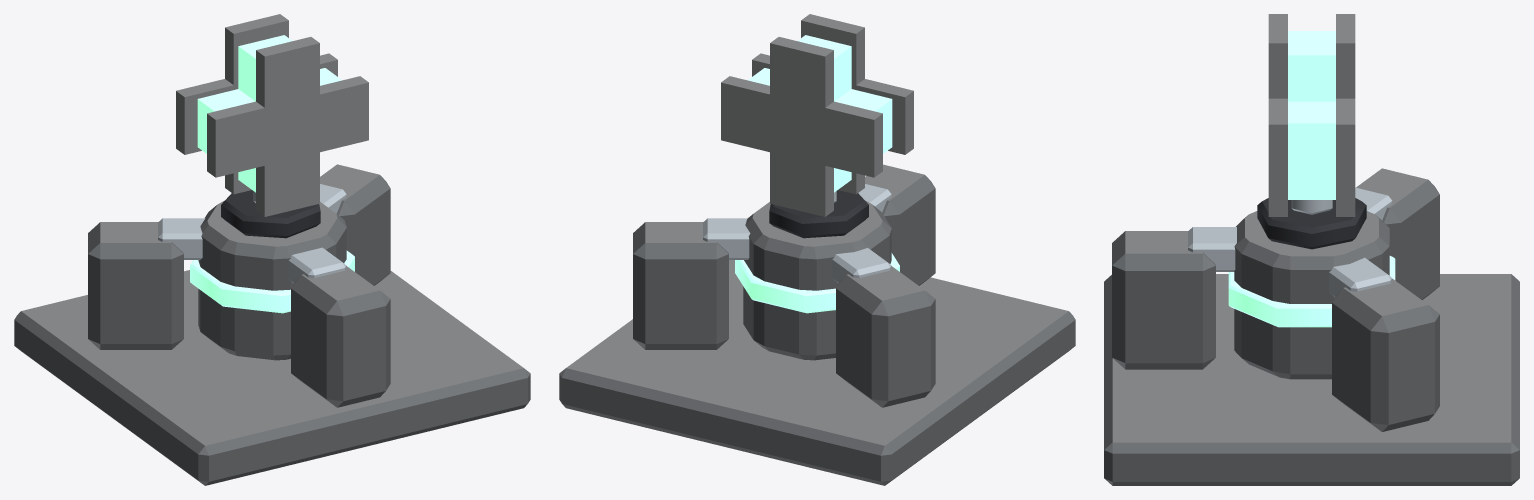
The model's file is R4X_RepairTurretDeployer_LOD1.glb.
3 views of the same model, side by side, from view 1: azimuth 30°, elevation 25°; view 2: azimuth 150°, elevation 25°; view 3: azimuth 270°, elevation 25° (orthographic). The views are drawn at different scales.
Parts seen in each view (by area): view 1: R4X_RepairTurretDeployer_LOD1; view 2: R4X_RepairTurretDeployer_LOD1; view 3: R4X_RepairTurretDeployer_LOD1.
Boxes of the visible parts, box(x1,y1,x2,y2) form: R4X_RepairTurretDeployer_LOD1: box(14, 14, 530, 485); R4X_RepairTurretDeployer_LOD1: box(559, 14, 1075, 485); R4X_RepairTurretDeployer_LOD1: box(1104, 14, 1519, 485).
Bounding box in the file's own units: 0.52 × 0.515 × 0.52.
